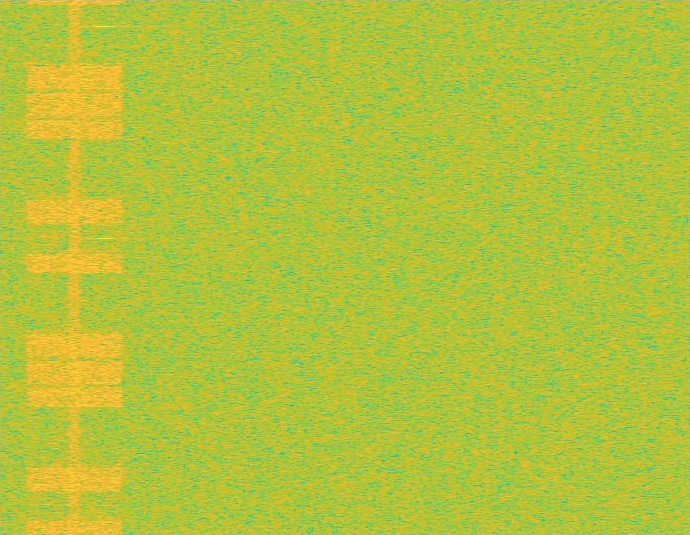DSSS: (68, 0, 81, 534)
LTE: (23, 0, 126, 534)
Radar: (97, 0, 111, 534)
